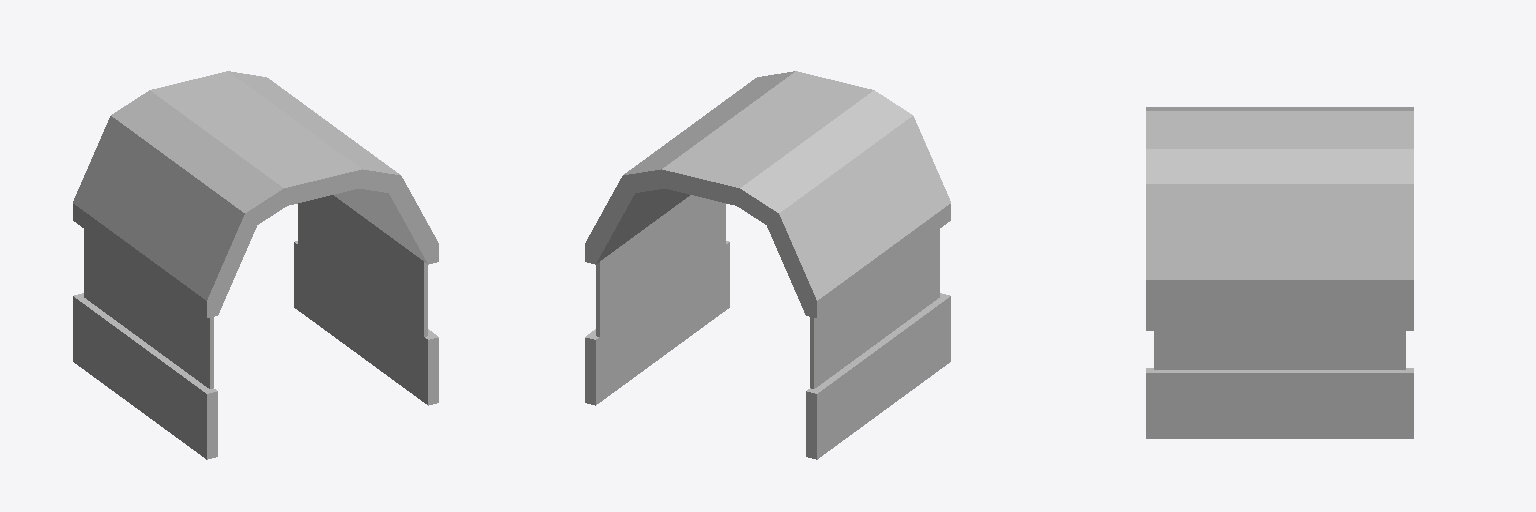
Rendered from buildingCorridorOpen.obj.
3 renders of one model, left to right at view 1: azimuth 30°, elevation 25°; view 2: azimuth 150°, elevation 25°; view 3: azimuth 270°, elevation 25°, orthographic.
Parts seen in each view (by area): view 1: buildingCorridorOpen; view 2: buildingCorridorOpen; view 3: buildingCorridorOpen.
Part boxes in pixels (x1,y1,x2,y2): buildingCorridorOpen: (73,71,438,459); buildingCorridorOpen: (585,71,950,459); buildingCorridorOpen: (1146,107,1413,438).
Bounding box in the file's own units: 10 × 10.37 × 10.